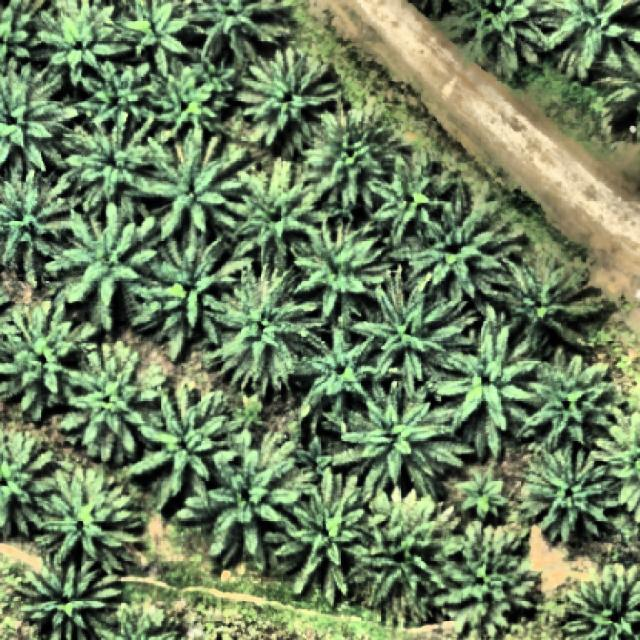Kelapa_Sawit: (331, 376, 474, 504), (182, 423, 301, 572), (344, 268, 478, 399), (272, 464, 386, 608), (436, 312, 542, 462), (130, 236, 256, 361), (210, 259, 322, 393), (410, 183, 524, 314), (355, 488, 463, 626), (47, 199, 158, 332), (127, 378, 226, 514), (58, 336, 164, 462), (146, 117, 249, 243), (438, 518, 544, 640), (302, 100, 410, 216), (37, 464, 143, 574), (236, 44, 338, 158), (292, 210, 392, 324), (498, 248, 600, 359), (54, 110, 158, 213), (232, 153, 321, 270), (526, 342, 616, 456), (522, 443, 616, 548), (36, 1, 132, 87), (368, 152, 459, 242), (144, 52, 236, 140), (75, 56, 157, 136), (458, 462, 510, 524)
